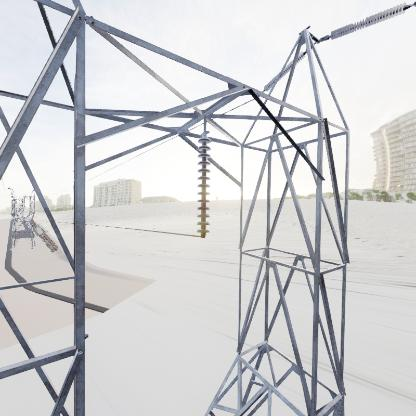insulator: (195, 135, 213, 239)
